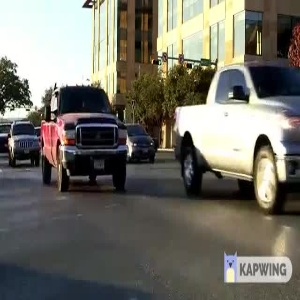car: (119, 119, 161, 165)
suv: (7, 116, 42, 167)
truck: (173, 60, 300, 205), (36, 79, 131, 193)
